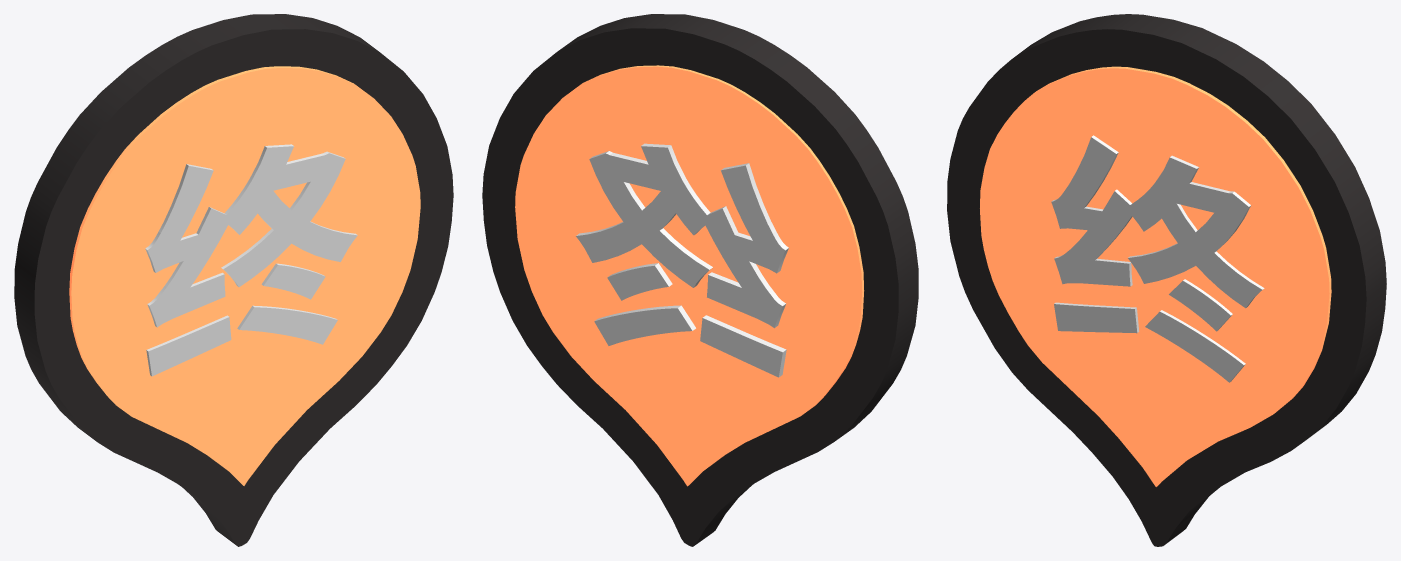
The model's file is zhong.dae.
3 views of the same model, side by side, from view 1: azimuth 30°, elevation 25°; view 2: azimuth 150°, elevation 25°; view 3: azimuth 330°, elevation 25° (orthographic).
Parts seen in each view (by area): view 1: in, out, zi (×4); view 2: in, out, zi (×4); view 3: in, out, zi (×4).
Boxes of the visible parts, x1=… form: in: x1=69, y1=66, x2=420, y2=485; out: x1=14, y1=14, x2=453, y2=546; zi (×4): x1=145, y1=144, x2=357, y2=376; in: x1=515, y1=65, x2=864, y2=486; out: x1=482, y1=14, x2=918, y2=546; zi (×4): x1=576, y1=143, x2=788, y2=377; in: x1=980, y1=66, x2=1331, y2=486; out: x1=947, y1=14, x2=1386, y2=546; zi (×4): x1=1051, y1=135, x2=1264, y2=382.
Size of the model in its own units: 6 by 7.02 by 0.7922.
